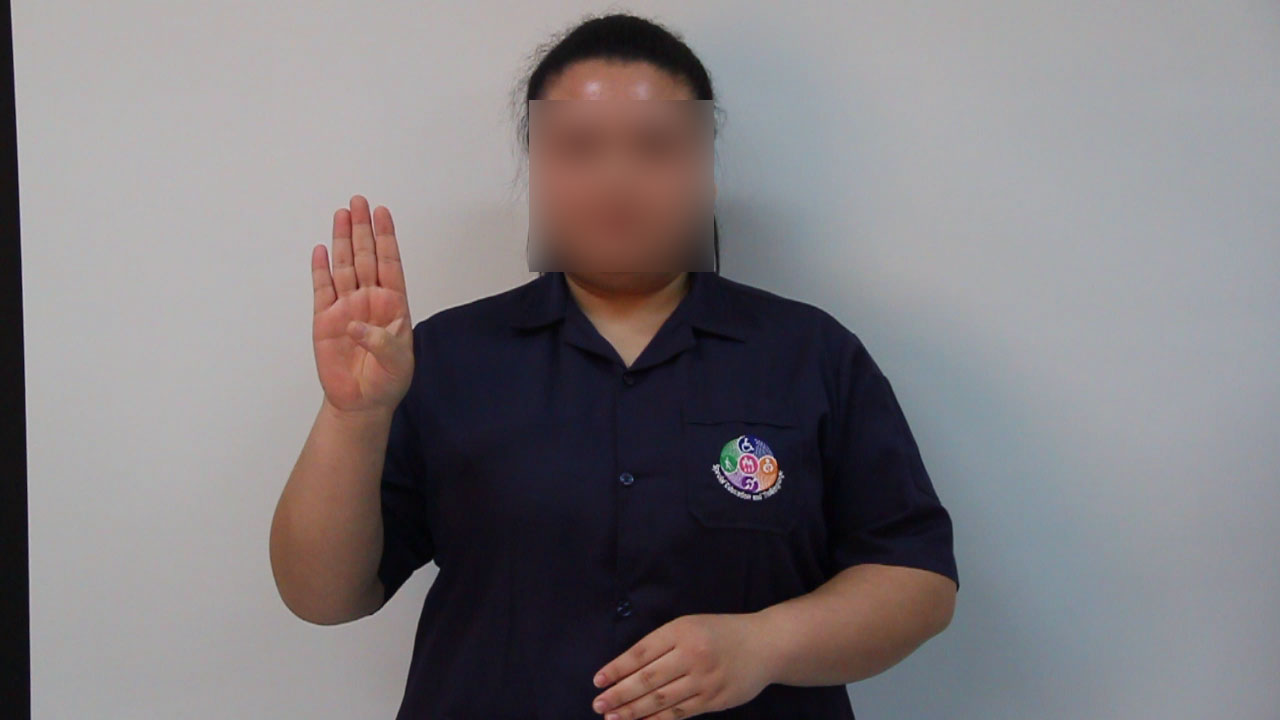bor: (296, 182, 433, 444)
